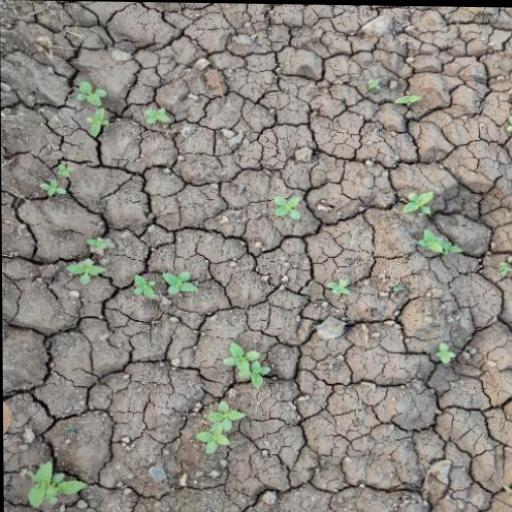crop: (183, 399, 252, 459), (15, 453, 84, 512), (129, 259, 201, 307), (63, 220, 114, 286), (207, 346, 275, 389), (72, 78, 114, 145), (31, 158, 72, 209), (138, 99, 177, 132), (412, 230, 462, 255), (400, 188, 439, 216), (271, 191, 306, 220)
